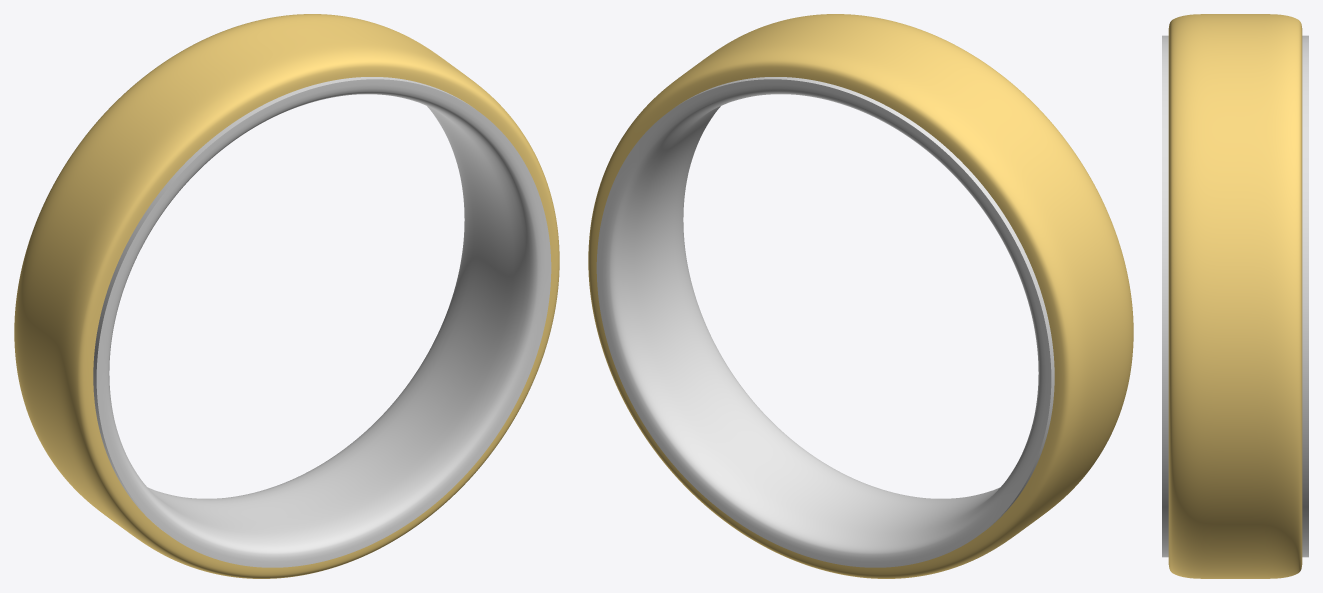
The model's file is BenZ_webgi.glb.
3 views of the same model, side by side, from view 1: azimuth 30°, elevation 25°; view 2: azimuth 150°, elevation 25°; view 3: azimuth 270°, elevation 25° (orthographic).
Visible parts, largest first — view 1: ben_ring_PT_inside_for_3d_model, Ben_ring_YG_OUTSIDE014; view 2: ben_ring_PT_inside_for_3d_model, Ben_ring_YG_OUTSIDE014; view 3: Ben_ring_YG_OUTSIDE014, ben_ring_PT_inside_for_3d_model.
Part boxes in pixels (box(x1,y1,x2,y2)): ben_ring_PT_inside_for_3d_model: box(93, 77, 551, 567); Ben_ring_YG_OUTSIDE014: box(14, 14, 559, 578); ben_ring_PT_inside_for_3d_model: box(596, 77, 1054, 567); Ben_ring_YG_OUTSIDE014: box(588, 14, 1133, 578); Ben_ring_YG_OUTSIDE014: box(1168, 14, 1302, 578); ben_ring_PT_inside_for_3d_model: box(1162, 35, 1308, 557).
Bounding box in the file's own units: 2.78 × 2.78 × 0.7235.
